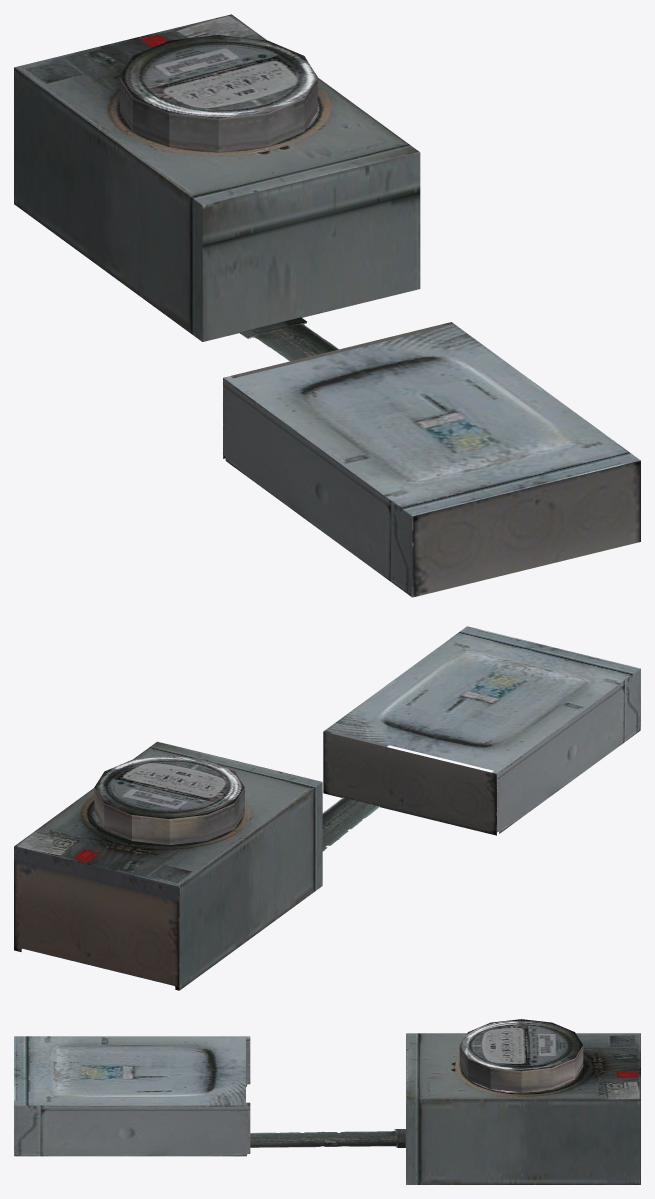
Rendered from power_meter_alt.fbx.
The picture shows the model from 3 angles, top to bottom: view 1: azimuth 30°, elevation 25°; view 2: azimuth 150°, elevation 25°; view 3: azimuth 270°, elevation 25°; orthographic projection. The views are drawn at different scales.
Visible parts, largest first — view 1: mesh_0; view 2: mesh_0; view 3: mesh_0.
Boxes of the visible parts, x1,y1,x2,y2 form: mesh_0: [14, 14, 640, 597]; mesh_0: [14, 626, 640, 990]; mesh_0: [14, 1019, 640, 1184].
Size of the model in its own units: 29.59 by 15 by 80.
Materials: 1 (1 with a texture image).
